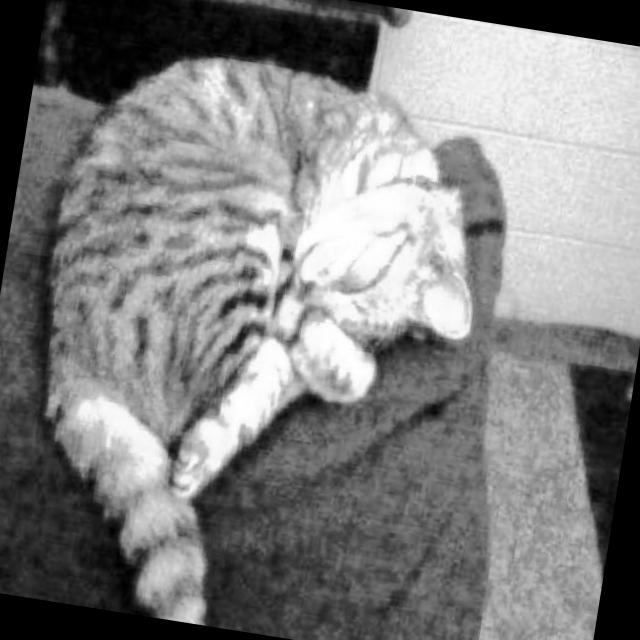Cat: (0, 21, 511, 640)
